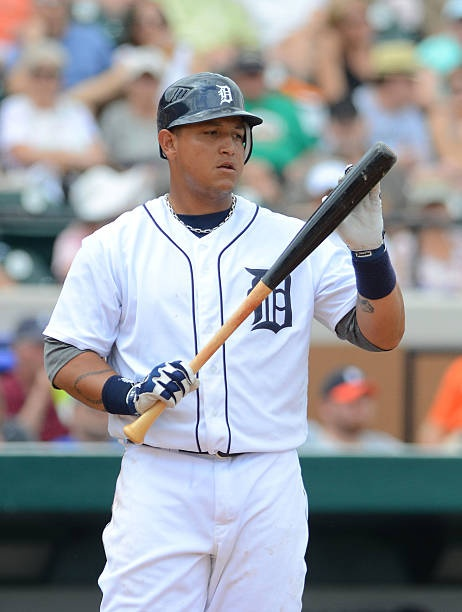bita: (128, 145, 393, 433)
